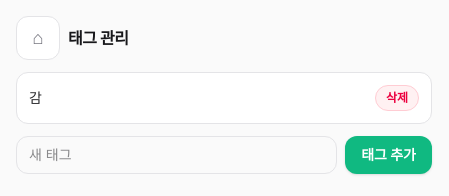
Test: TagManagementScreen › renames a tag inline and shows the updated name
Step 1. Click the button "감" → [35, 98], box [29,88,367,108]
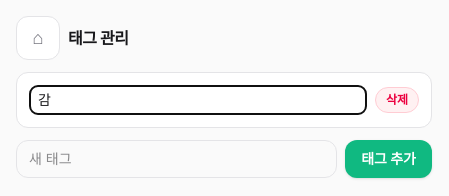
Step 2. Replace the text in the field named "감 이름 수정" with "직감" → [198, 100], box [29,85,367,115]
Then press Enter
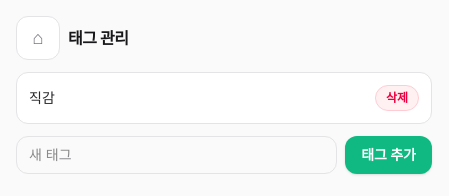
Check: the button "직감" is shown, box [29,88,367,108]
